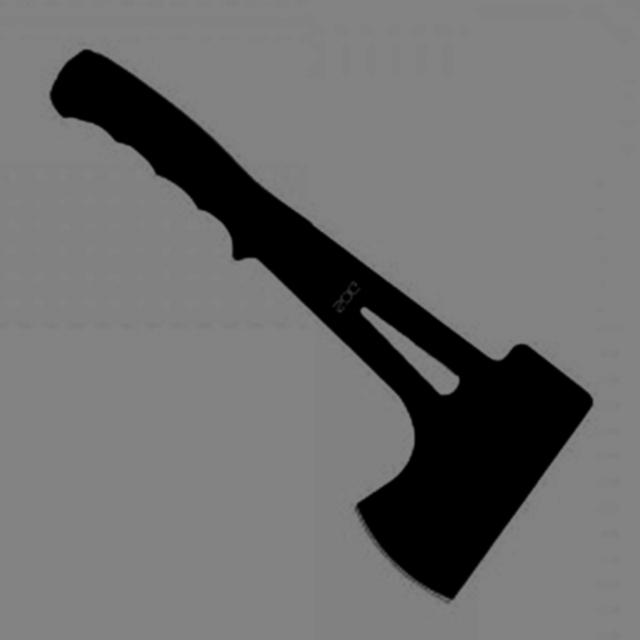ax: (34, 39, 600, 615)
